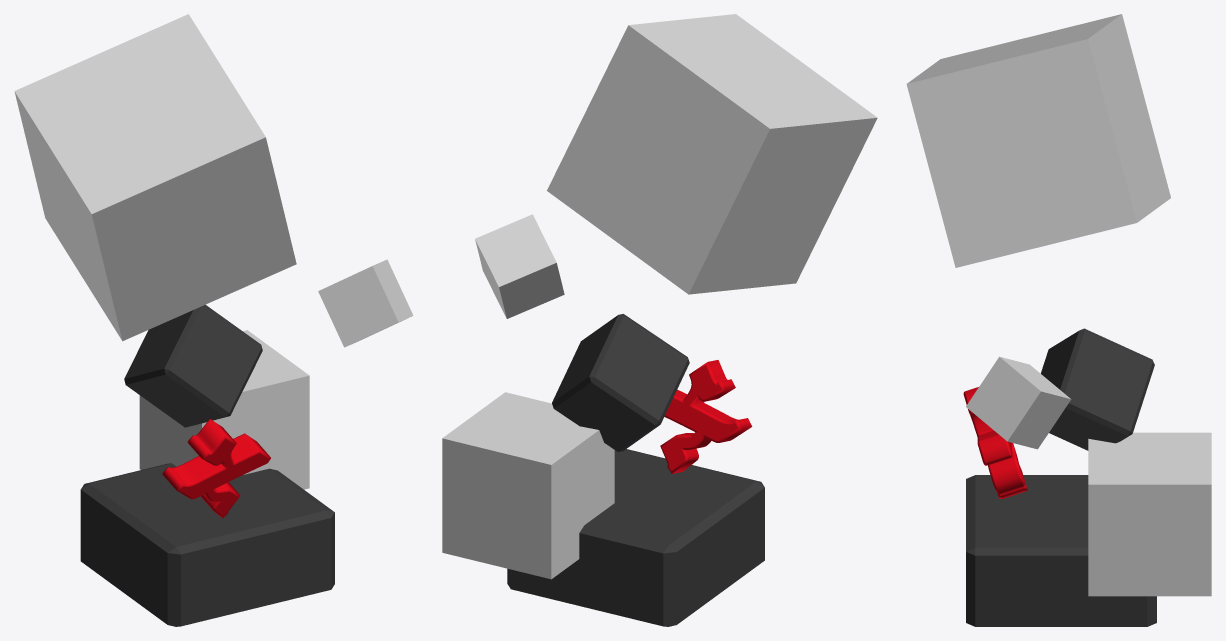
File: burntmatches.glb
The picture shows the model from 3 angles, left to right: view 1: azimuth 30°, elevation 25°; view 2: azimuth 150°, elevation 25°; view 3: azimuth 270°, elevation 25°; orthographic projection. The views are drawn at different scales.
Parts seen in each view (by area): view 1: Cube.005, Cube.002, Cube.003, Cube.006, Text, Cube.004; view 2: Cube.005, Cube.002, Cube.006, Cube.003, Cube.004, Text; view 3: Cube.005, Cube.002, Cube.006, Cube.003, Cube.004, Text.
Boxes of the visible parts, x1,y1,x2,y2 form: Cube.005: (14, 14, 296, 341); Cube.002: (80, 463, 334, 626); Cube.003: (124, 304, 262, 427); Cube.006: (139, 330, 309, 489); Text: (162, 419, 270, 518); Cube.004: (318, 259, 413, 347); Cube.005: (547, 14, 877, 294); Cube.002: (507, 449, 764, 626); Cube.006: (442, 392, 614, 579); Cube.003: (552, 314, 689, 451); Cube.004: (475, 214, 564, 318); Text: (660, 360, 752, 473); Cube.005: (906, 14, 1170, 267); Cube.002: (966, 475, 1156, 626); Cube.006: (1088, 432, 1211, 596); Cube.003: (1041, 328, 1154, 450); Cube.004: (966, 356, 1071, 449); Text: (963, 387, 1027, 498).
Bounding box in the file's own units: 1.9 × 2.84 × 1.43.
